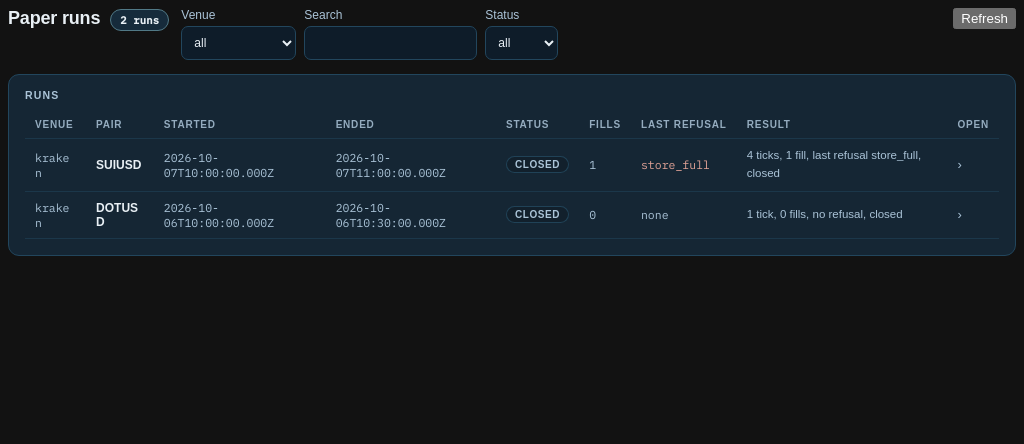
Test case: LastRunsPanel Signal layout — run detail panel › renders 'no fills in this run' inside the detail panel with the coral empty state
Expected: the table with test id "paper-last-runs-table" is shown, [25, 111, 999, 239]
Click the row with test id "paper-last-runs-row-kraken-DOTUSD": {"x": 512, "y": 215} [25, 191, 999, 238]
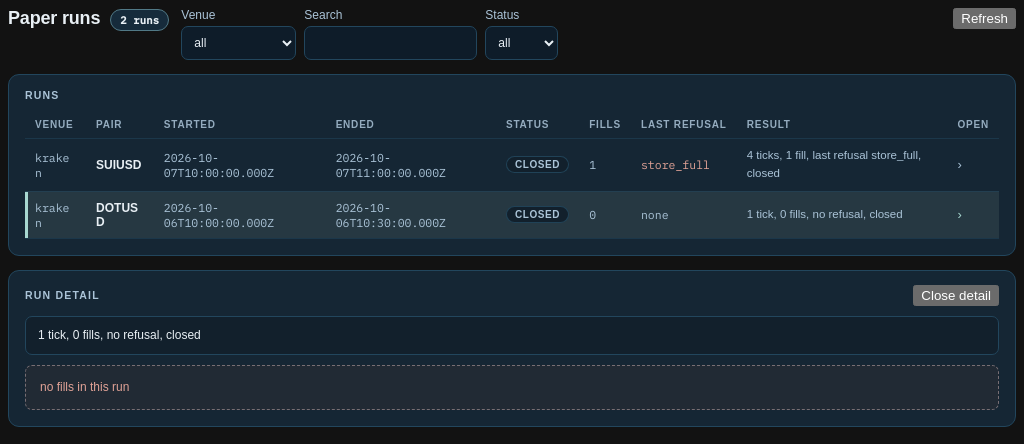
Expected: the text with test id "paper-last-runs-fills-empty" reads "no fills in this run", [40, 380, 129, 394]
